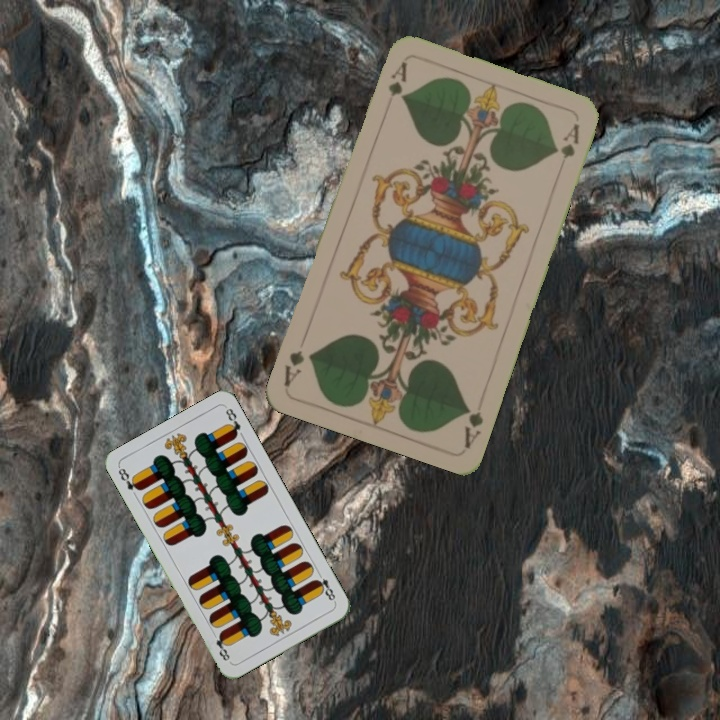E8: (311, 568, 338, 605), (114, 463, 144, 493)
GA: (460, 402, 486, 450), (384, 58, 410, 99)
